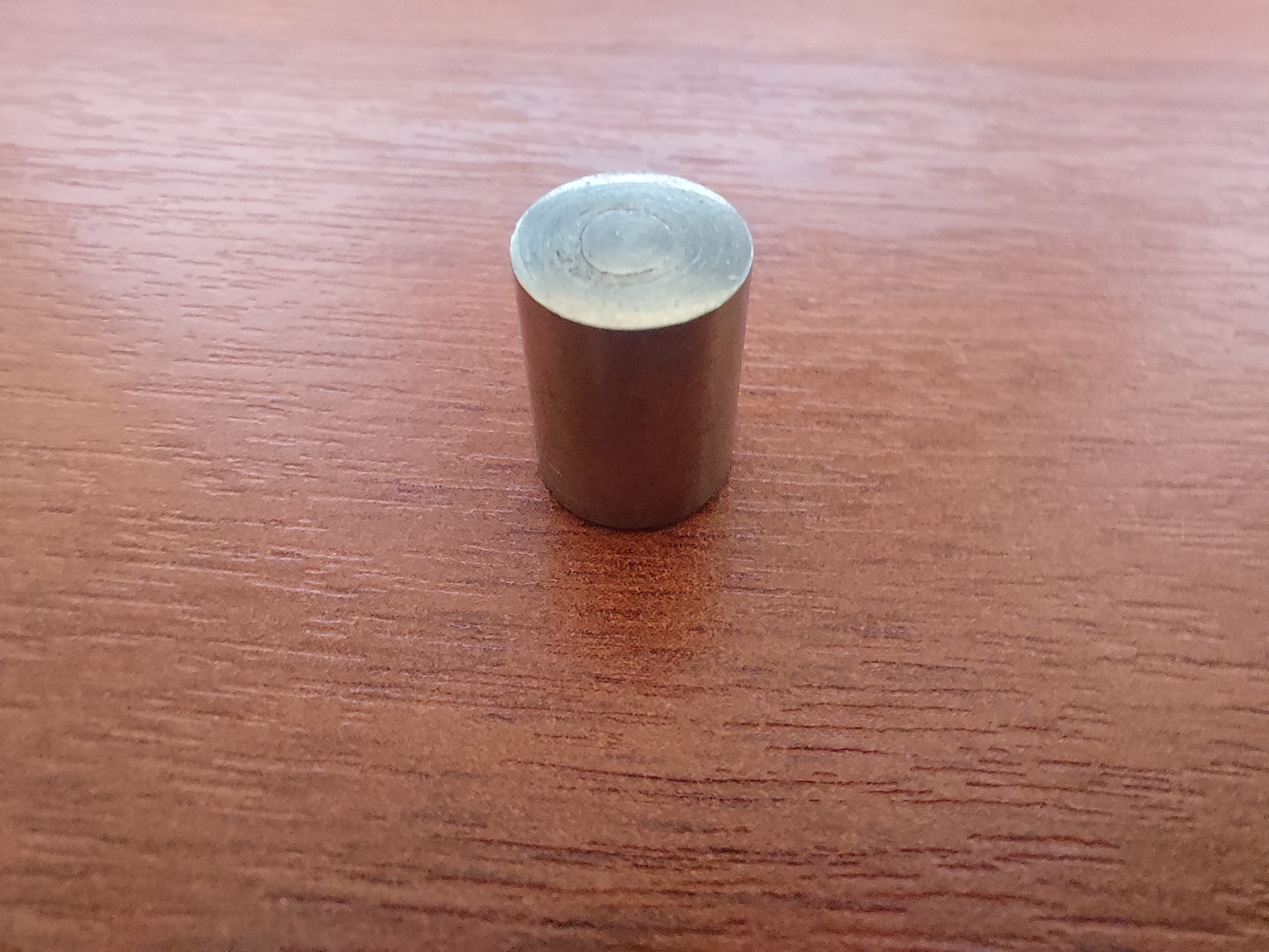tablet: (496, 157, 762, 533)
